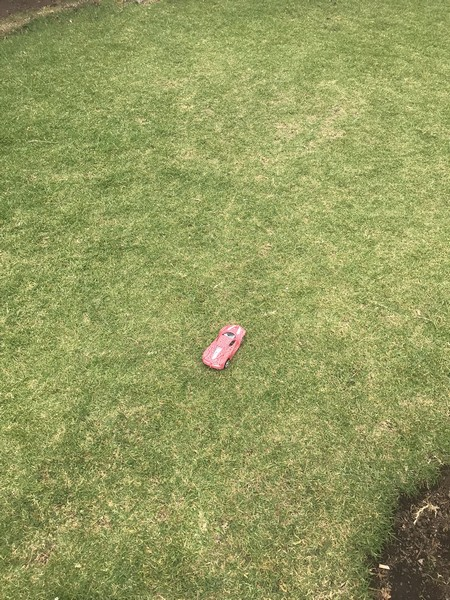RC: (200, 323, 246, 371)
